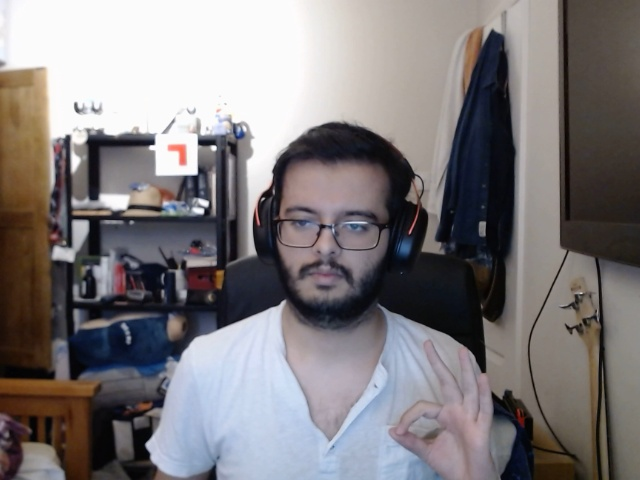Okay: (382, 337, 505, 480)
